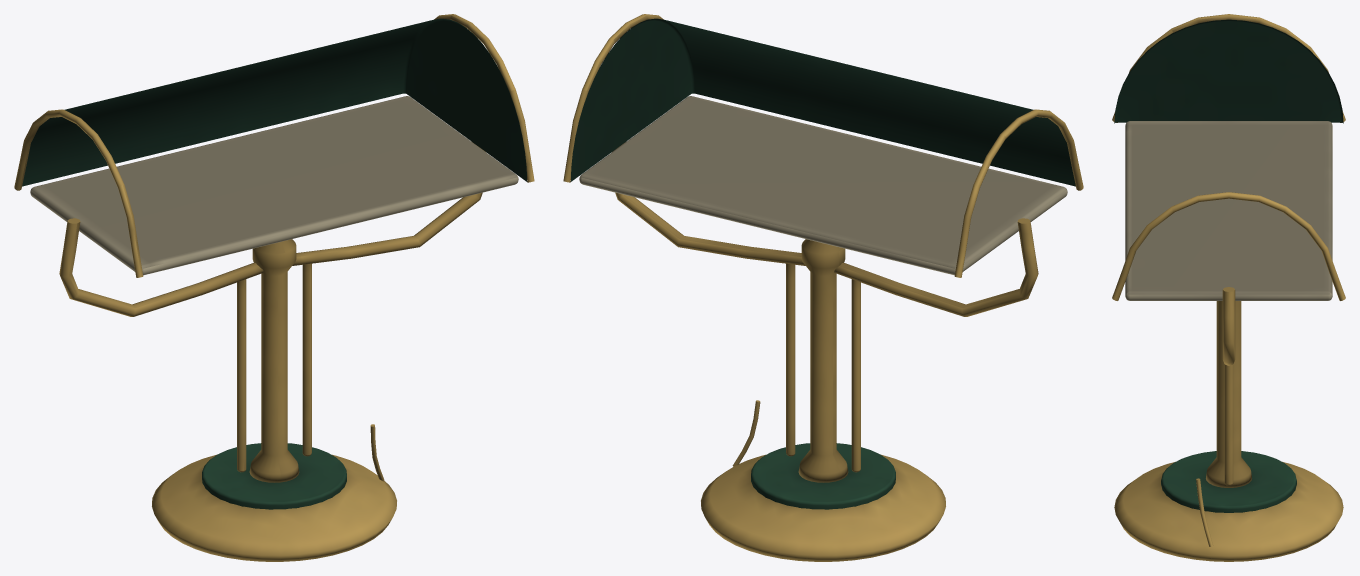
The model's file is lamp-05.gltf.
3 views of the same model, side by side, from view 1: azimuth 30°, elevation 25°; view 2: azimuth 150°, elevation 25°; view 3: azimuth 270°, elevation 25° (orthographic). The views are drawn at different scales.
Parts seen in each view (by area): view 1: lamp-05; view 2: lamp-05; view 3: lamp-05.
Part boxes in pixels (x1,y1,x2,y2): lamp-05: (14, 14, 534, 561); lamp-05: (563, 14, 1083, 561); lamp-05: (1112, 14, 1345, 561).
Bounding box in the file's own units: 0.5239 × 0.524 × 0.2653.
4 materials, 4 textured.
